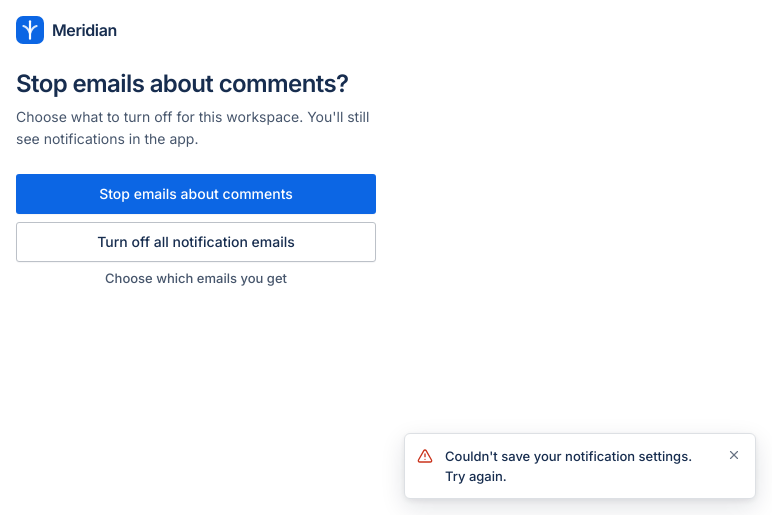
it: unsubscribe link › asks before turning anything off, then confirms what was turned off
Click the button "Stop emails about comments".
click(196, 194)  # box [16,174,376,214]
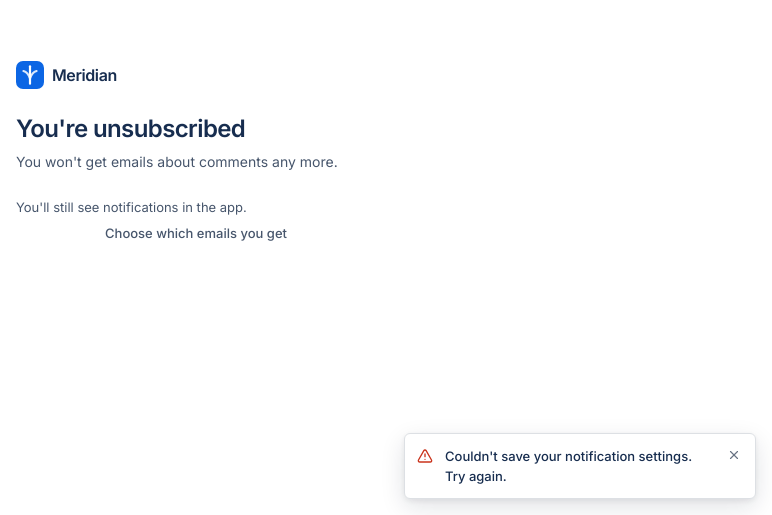
Result: the heading "You're unsubscribed" is shown at [16,114,245,143]
Result: the text "You won't get emails about comments any more." is shown at [16,151,376,173]
